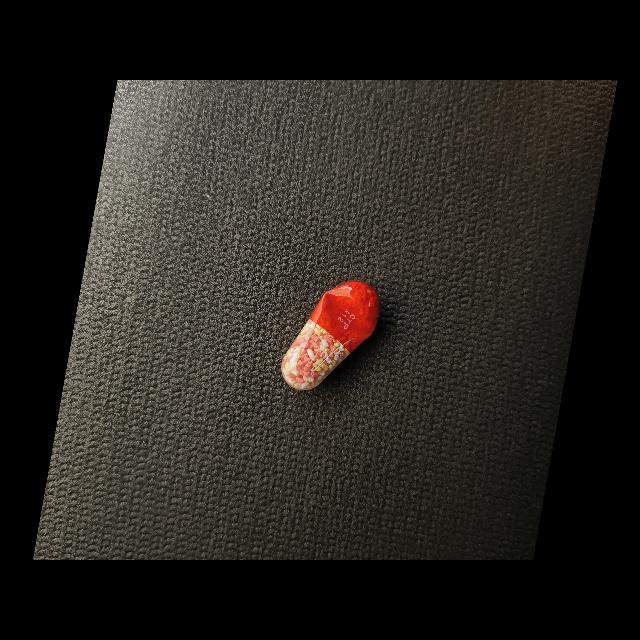Defective Capsule: (281, 280, 381, 390)
